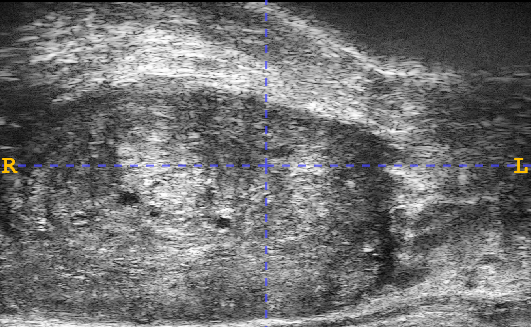calcifications: (33, 150, 241, 263), (380, 150, 440, 238)
